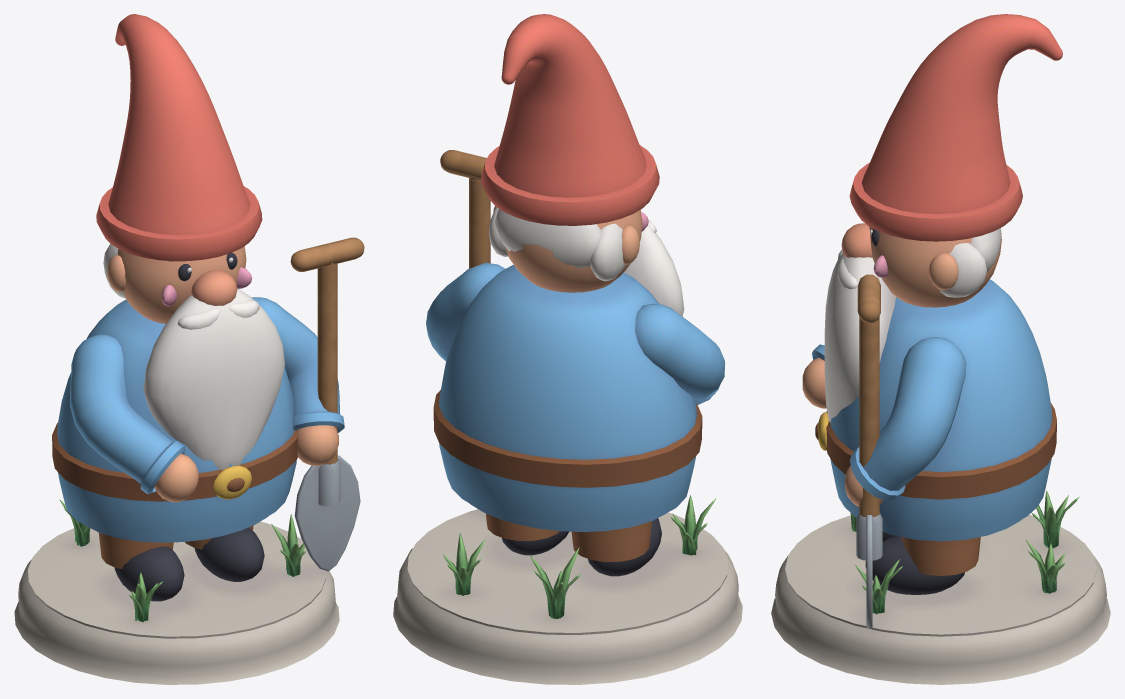
Rendered from grab3d-garden-gnome.glb.
3 views of the same model, side by side, from view 1: azimuth 30°, elevation 25°; view 2: azimuth 150°, elevation 25°; view 3: azimuth 270°, elevation 25° (orthographic). The views are drawn at different scales.
Visible parts, largest first — view 1: garden-gnome_body; view 2: garden-gnome_body; view 3: garden-gnome_body.
Boxes of the visible parts, x1,y1,x2,y2 form: garden-gnome_body: (14,14,364,684); garden-gnome_body: (393,14,742,684); garden-gnome_body: (771,14,1110,684).
Bounding box in the file's own units: 0.2267 × 0.4269 × 0.2185.
1 material, 1 textured.
